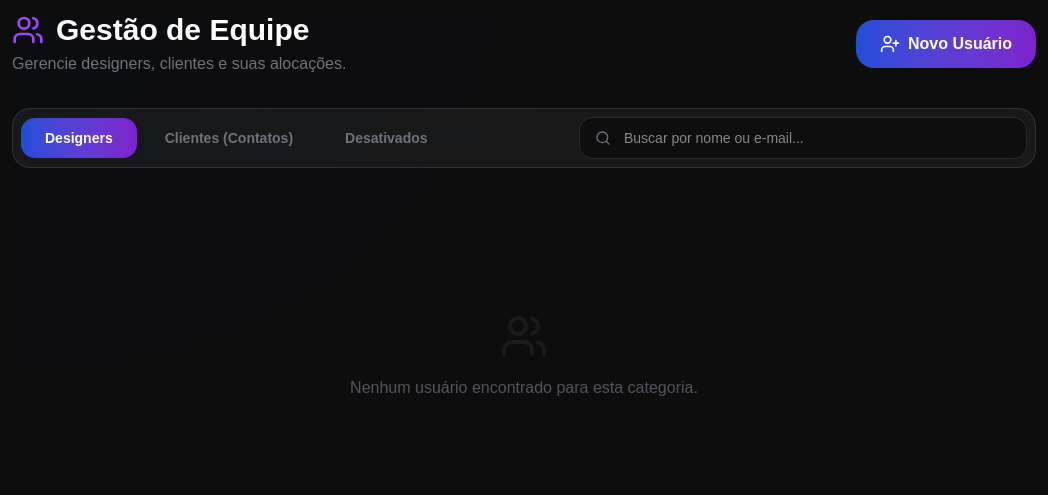
it: TeamPage › usuário inativo › mostra por que a pessoa caiu quando foi a organização que a derrubou
What coordinates should you click on to do the following:
click the button "Desativados"
I would click on:
 (386, 138)
Its box is [321,118,452,158].
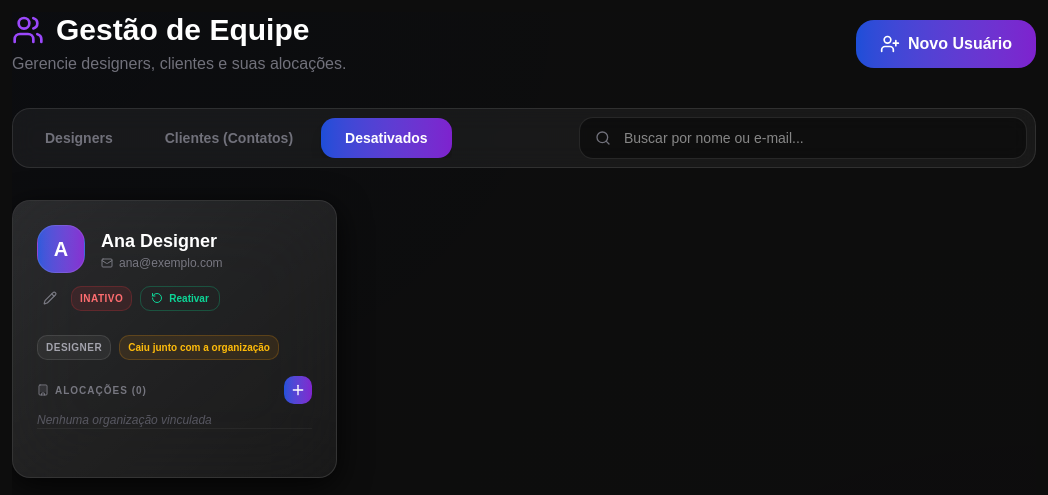
Now the text "Caiu junto com a organização" is shown, box [119,335,279,360]
